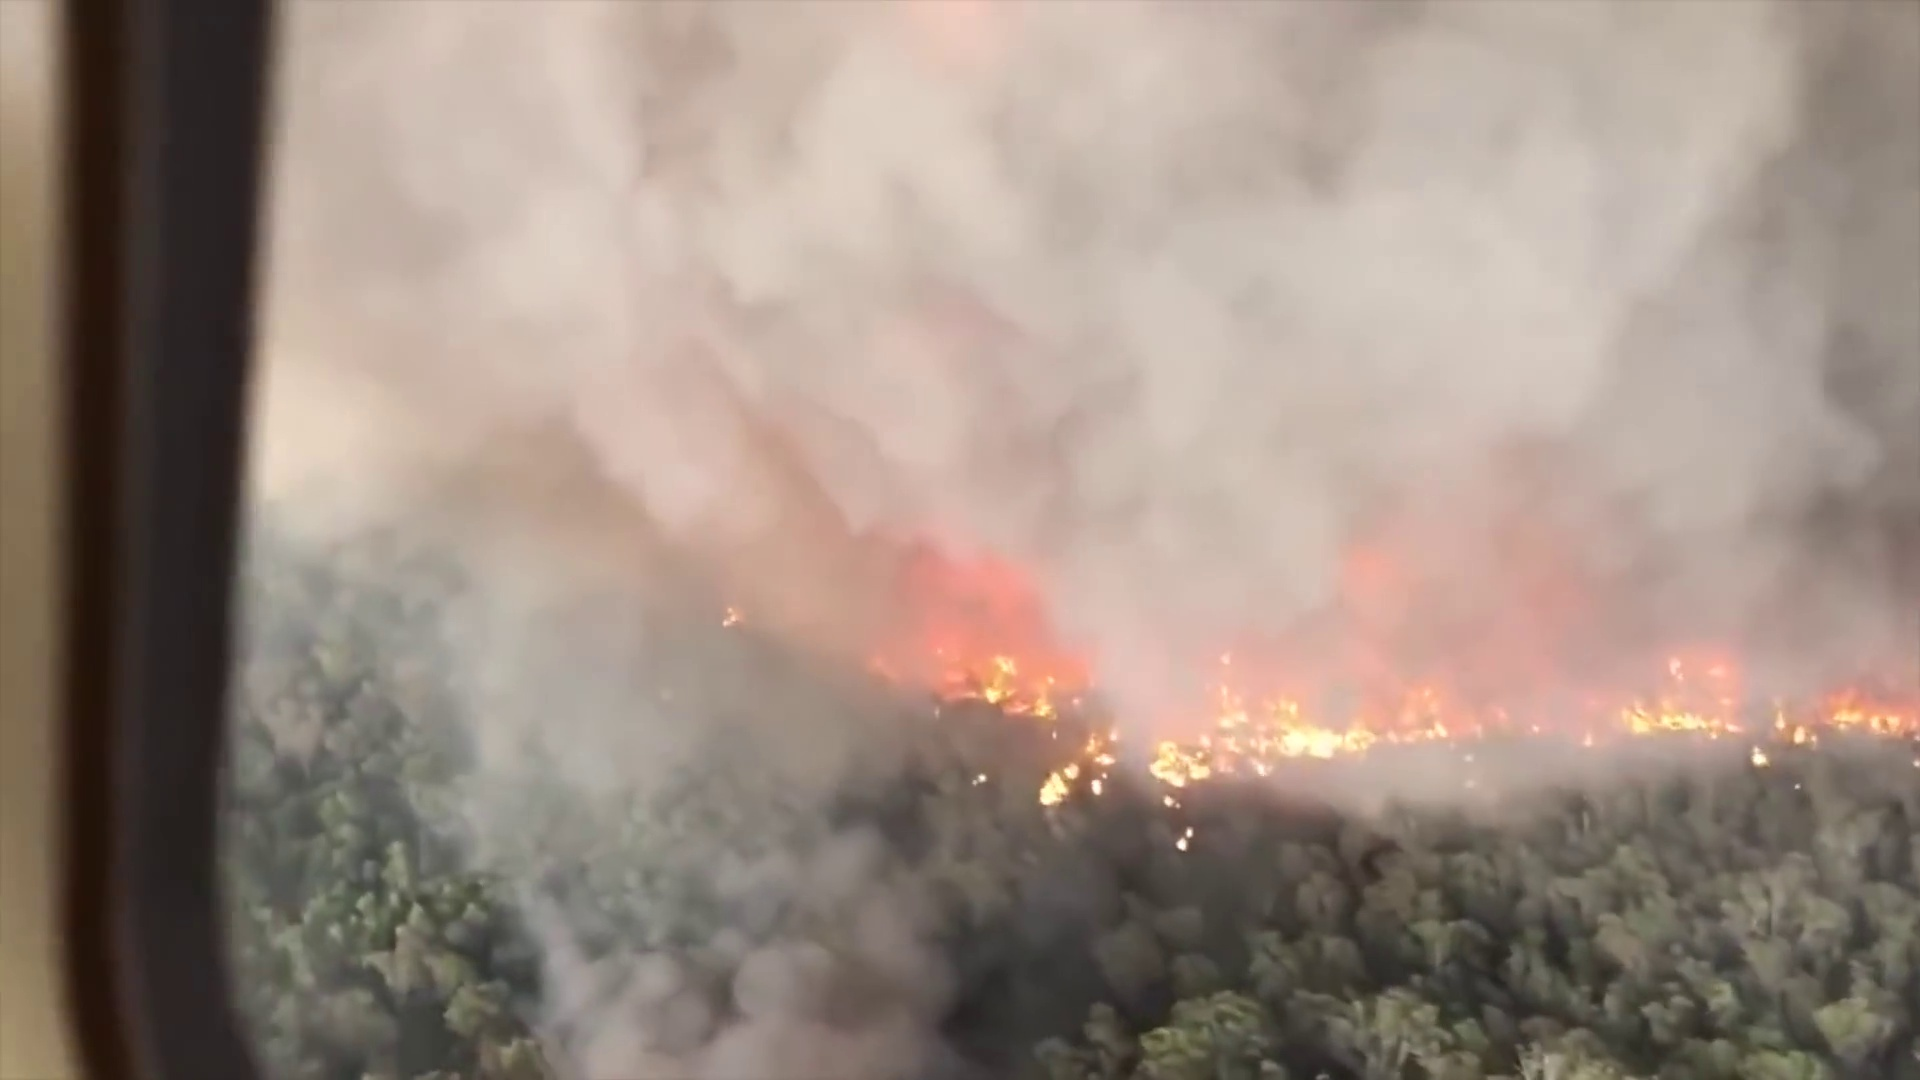fire: (1216, 703, 1443, 764), (1619, 705, 1737, 738), (988, 665, 1054, 713), (1153, 745, 1215, 785), (1832, 703, 1916, 731), (1036, 762, 1077, 808)
